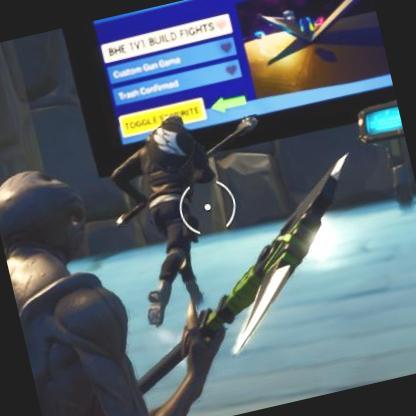person: (99, 102, 248, 326)
